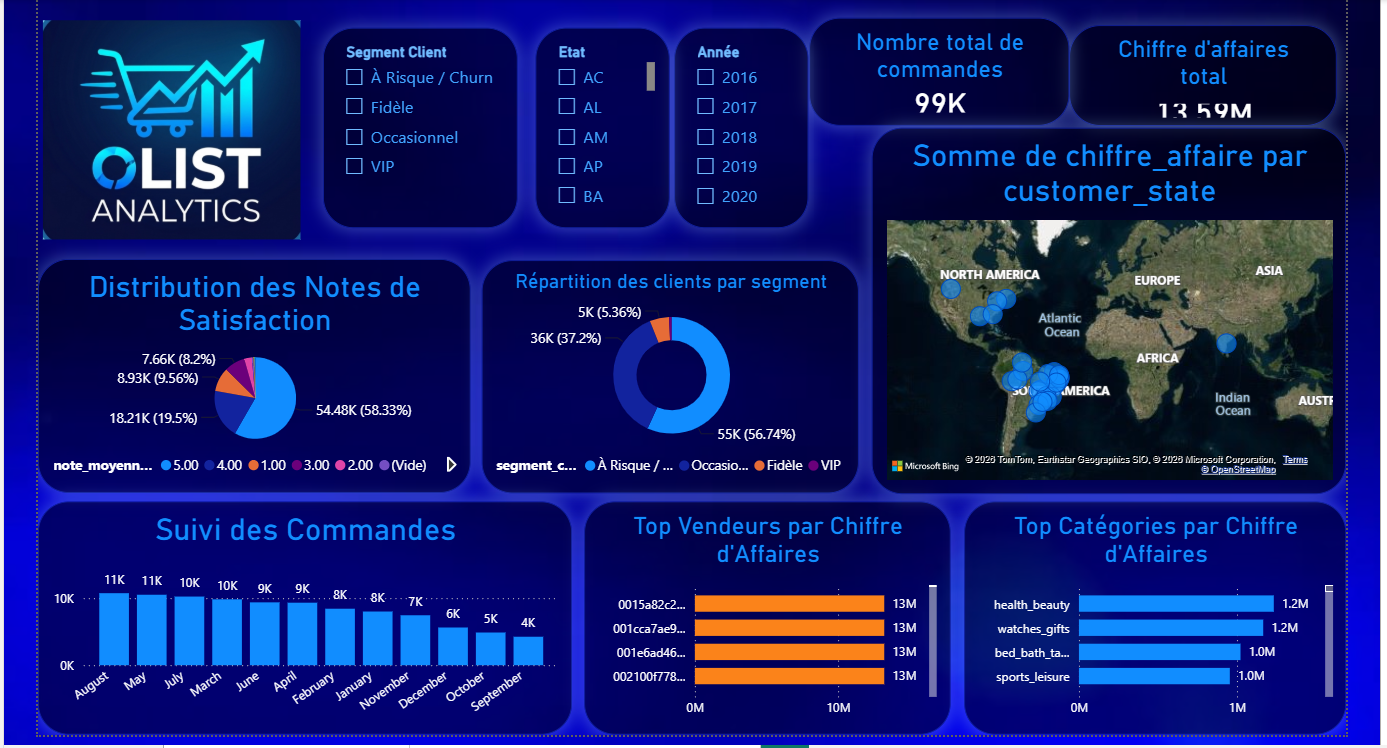

The page's visual inventory and layout, read from the dashboard file:
{"tool":"powerbi","page":{"name":"(Vue d'ensemble stratégique","canvas":[1280,720],"ordinal":0},"visuals":[{"type":"card","title":"Chiffre d''affaires total","fields":{"Values":["Sum(analytics vw_monthly_sales_performance.chiffre_affaire)"]},"box":[1008.6,25.7,261.4,98.6],"z":0},{"type":"card","title":"Nombre total de commandes","fields":{"Values":["Sum(analytics vw_monthly_sales_performance.nombre_commandes)"]},"box":[754.3,18.6,254.3,105.7],"z":1000},{"type":"pieChart","title":"Distribution des Notes de Satisfaction","fields":{"Category":["analytics fact_orders.review_score"],"Y":["Count(analytics fact_orders.order_id)"]},"box":[0,254.3,422.9,228.6],"z":2000},{"type":"donutChart","title":"Répartition des clients par segment","fields":{"Category":["analytics dim_customers.Segment_Client"],"Y":["CountNonNull(analytics dim_customers.customer_unique_id)"]},"box":[434.2,255.7,369,227.9],"z":3000},{"type":"columnChart","title":"Suivi des Commandes ","fields":{"Category":["analytics dim_date.month_name"],"Y":["Count(analytics fact_orders.order_id)"]},"box":[0,491.4,522.2,227.9],"z":4000},{"type":"clusteredBarChart","title":"Top Vendeurs par Chiffre d''Affaires","fields":{"Category":["analytics dim_sellers.seller_id"],"Y":["Sum(analytics fact_orders.Chiffre d'Affaires)"]},"box":[534.3,492.1,358.2,227.9],"z":5000},{"type":"clusteredBarChart","title":"Top Catégories par Chiffre d''Affaires","fields":{"Category":["analytics dim_products.product_category_name"],"Y":["Sum(analytics fact_orders.Chiffre d'Affaires)"]},"box":[905.7,491.4,373.9,227.9],"z":6000},{"type":"map","fields":{"Category":["analytics dim_customers.customer_state"],"Size":["Sum(analytics fact_orders.Chiffre d'Affaires)"]},"box":[815.7,125.7,464.3,358.6],"z":7000},{"type":"slicer","fields":{"Values":["analytics dim_date.year_number"]},"box":[622.9,28.6,131.4,195.7],"z":8000},{"type":"slicer","fields":{"Values":["analytics dim_customers.customer_state"]},"box":[487.1,28.6,131.4,195.7],"z":9000},{"type":"slicer","fields":{"Values":["analytics vw_customer_rfm_summary.segment_client"]},"box":[278.6,28.6,190,195.7],"z":10000},{"type":"image","box":[0,0,261.4,255.7],"z":11000}]}

Visuals, with their boxes on the page's 1280x720 design canvas (x1, y1, x2, y2). These are canvas units, not pixel positions in the 1387x748 screenshot, which may show the page scaled, cropped or inside an application window:
"Chiffre d''affaires total" card: {"left": 1009, "top": 26, "right": 1270, "bottom": 124}
"Nombre total de commandes" card: {"left": 754, "top": 19, "right": 1009, "bottom": 124}
"Distribution des Notes de Satisfaction" pieChart: {"left": 0, "top": 254, "right": 423, "bottom": 483}
"Répartition des clients par segment" donutChart: {"left": 434, "top": 256, "right": 803, "bottom": 484}
"Suivi des Commandes " columnChart: {"left": 0, "top": 491, "right": 522, "bottom": 719}
"Top Vendeurs par Chiffre d''Affaires" clusteredBarChart: {"left": 534, "top": 492, "right": 892, "bottom": 720}
"Top Catégories par Chiffre d''Affaires" clusteredBarChart: {"left": 906, "top": 491, "right": 1280, "bottom": 719}
map - analytics dim_customers.customer_state x Sum(analytics fact_orders.Chiffre d'Affaires): {"left": 816, "top": 126, "right": 1280, "bottom": 484}
slicer - analytics dim_date.year_number: {"left": 623, "top": 29, "right": 754, "bottom": 224}
slicer - analytics dim_customers.customer_state: {"left": 487, "top": 29, "right": 618, "bottom": 224}
slicer - analytics vw_customer_rfm_summary.segment_client: {"left": 279, "top": 29, "right": 469, "bottom": 224}
image: {"left": 0, "top": 0, "right": 261, "bottom": 256}
